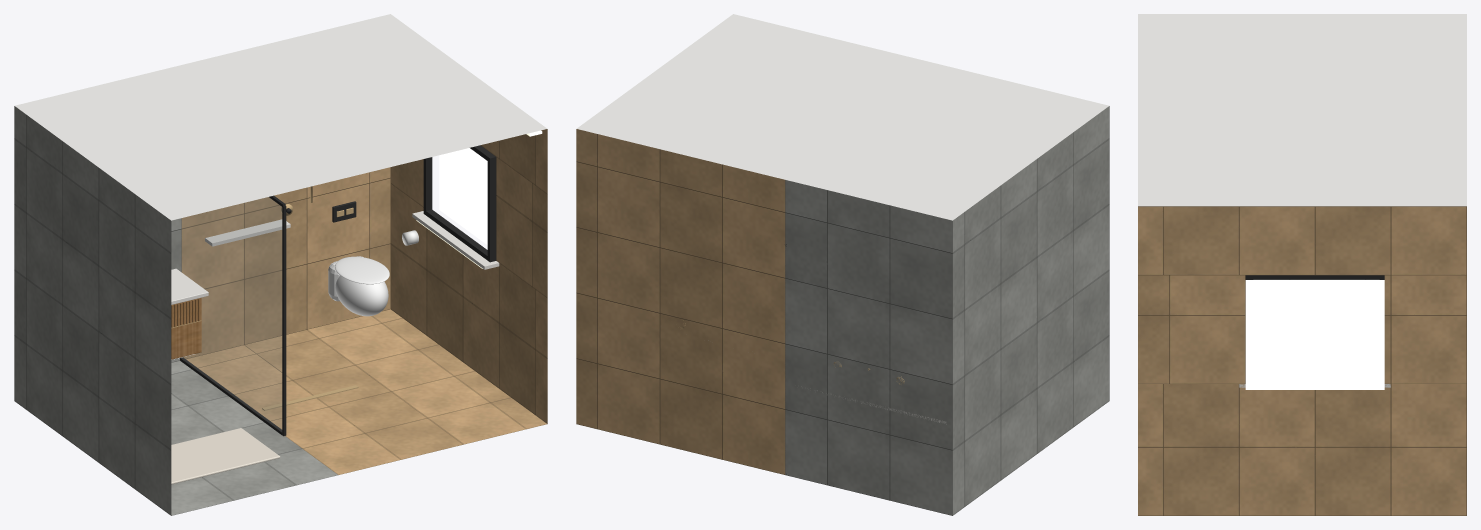
Rendered from bath_v2.glb.
The picture shows the model from 3 angles, left to right: view 1: azimuth 30°, elevation 25°; view 2: azimuth 150°, elevation 25°; view 3: azimuth 270°, elevation 25°; orthographic projection. The views are drawn at different scales.
Parts seen in each view (by area): view 1: Ceiling, Left Wall, Floor Wet Zone, Back Wall Wet, Right Wall Below, Glass Partition, Floor Vanity Zone, Right Wall Front, Window Sky, Floor Rug, Window Frame, Right Wall Above (+10 smaller); view 2: Back Wall Wet, Ceiling, Back Wall Vanity, Left Wall; view 3: Ceiling, Right Wall Below, Right Wall Above, Window Sky, Right Wall Front, Right Wall Back, Window Frame.
Part boxes in pixels (left/top/right/bottom): Ceiling: left=14, top=14, right=547, bottom=220; Left Wall: left=14, top=106, right=171, bottom=515; Floor Wet Zone: left=186, top=309, right=547, bottom=474; Back Wall Wet: left=181, top=167, right=390, bottom=358; Right Wall Below: left=390, top=184, right=547, bottom=423; Glass Partition: left=181, top=197, right=281, bottom=430; Floor Vanity Zone: left=171, top=361, right=338, bottom=515; Right Wall Front: left=496, top=157, right=547, bottom=297; Window Sky: left=439, top=148, right=487, bottom=244; Floor Rug: left=171, top=428, right=280, bottom=484; Window Frame: left=423, top=145, right=496, bottom=262; Right Wall Above: left=480, top=129, right=547, bottom=194; Back Wall Wet: left=576, top=129, right=785, bottom=474; Ceiling: left=576, top=14, right=1109, bottom=220; Back Wall Vanity: left=785, top=180, right=952, bottom=515; Left Wall: left=952, top=106, right=1109, bottom=515; Ceiling: left=1138, top=14, right=1466, bottom=206; Right Wall Below: left=1138, top=384, right=1466, bottom=515; Right Wall Above: left=1138, top=206, right=1466, bottom=275; Window Sky: left=1245, top=280, right=1384, bottom=389; Right Wall Front: left=1138, top=275, right=1245, bottom=383; Right Wall Back: left=1384, top=275, right=1466, bottom=383; Window Frame: left=1245, top=275, right=1384, bottom=279.
Bounding box in the file's own units: 3.71 × 2.7 × 2.6.
16 materials, 3 textured.
